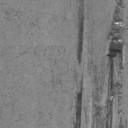slag inclusion: (87, 0, 128, 128), (73, 72, 84, 126), (77, 0, 86, 64)
